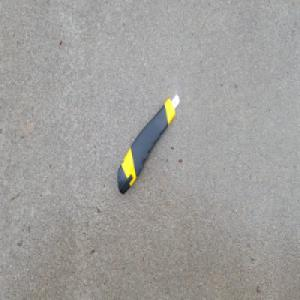Cutter: (116, 91, 181, 197)
